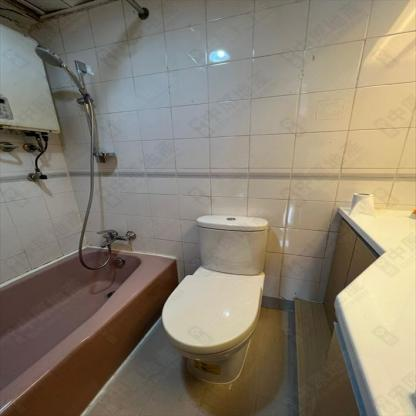Bathtub: (0, 243, 177, 415)
Toilet: (159, 213, 268, 382)
Water Heater: (0, 27, 59, 132)
